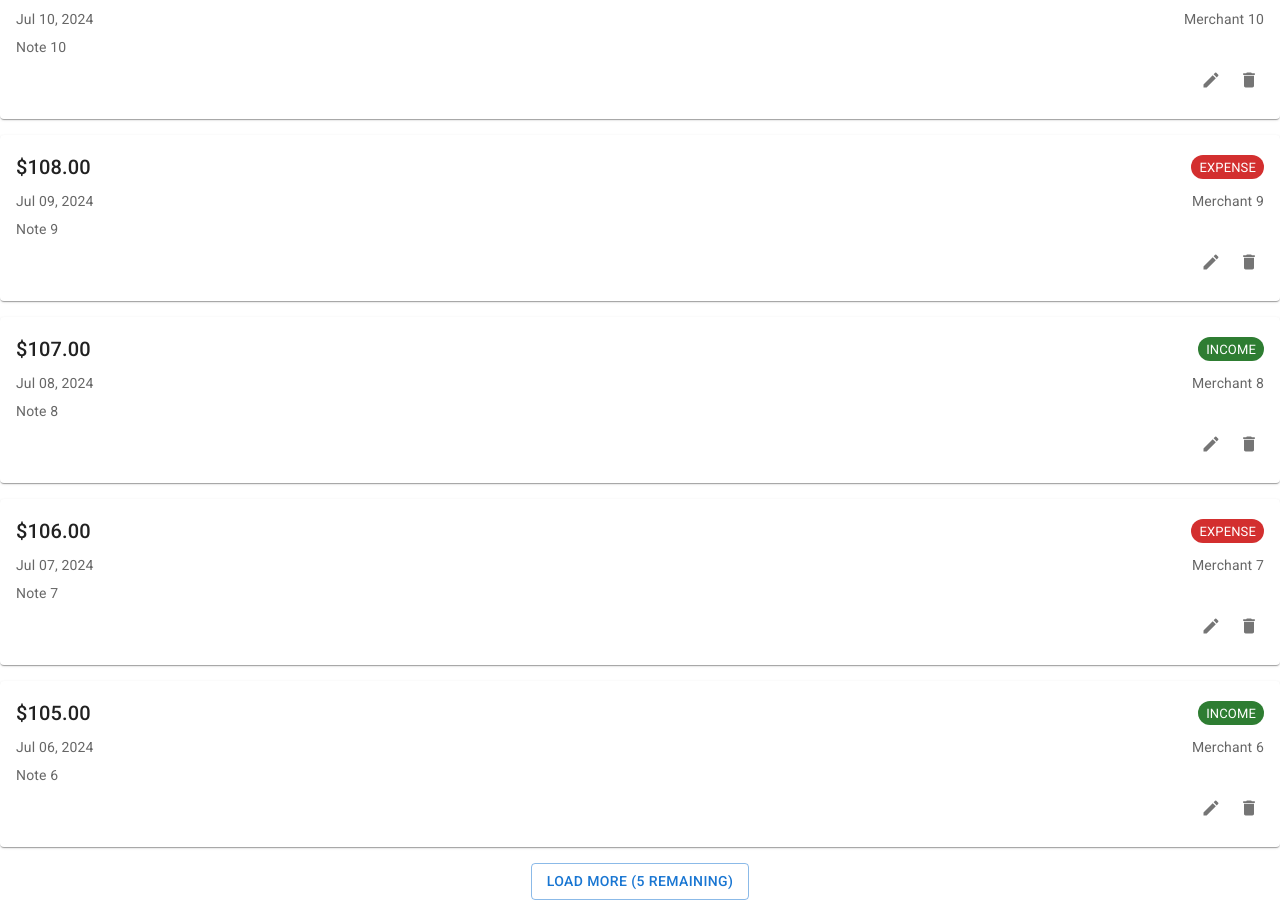
Scenario: MobileTransactionList › Pagination › should load more transactions when Load More button is clicked
(page scrolled)
Expected: the text "Merchant 5" is not shown
Click the button "Load More (5 remaining)".
click(640, 882)  # box [531, 863, 749, 899]
(page scrolled)
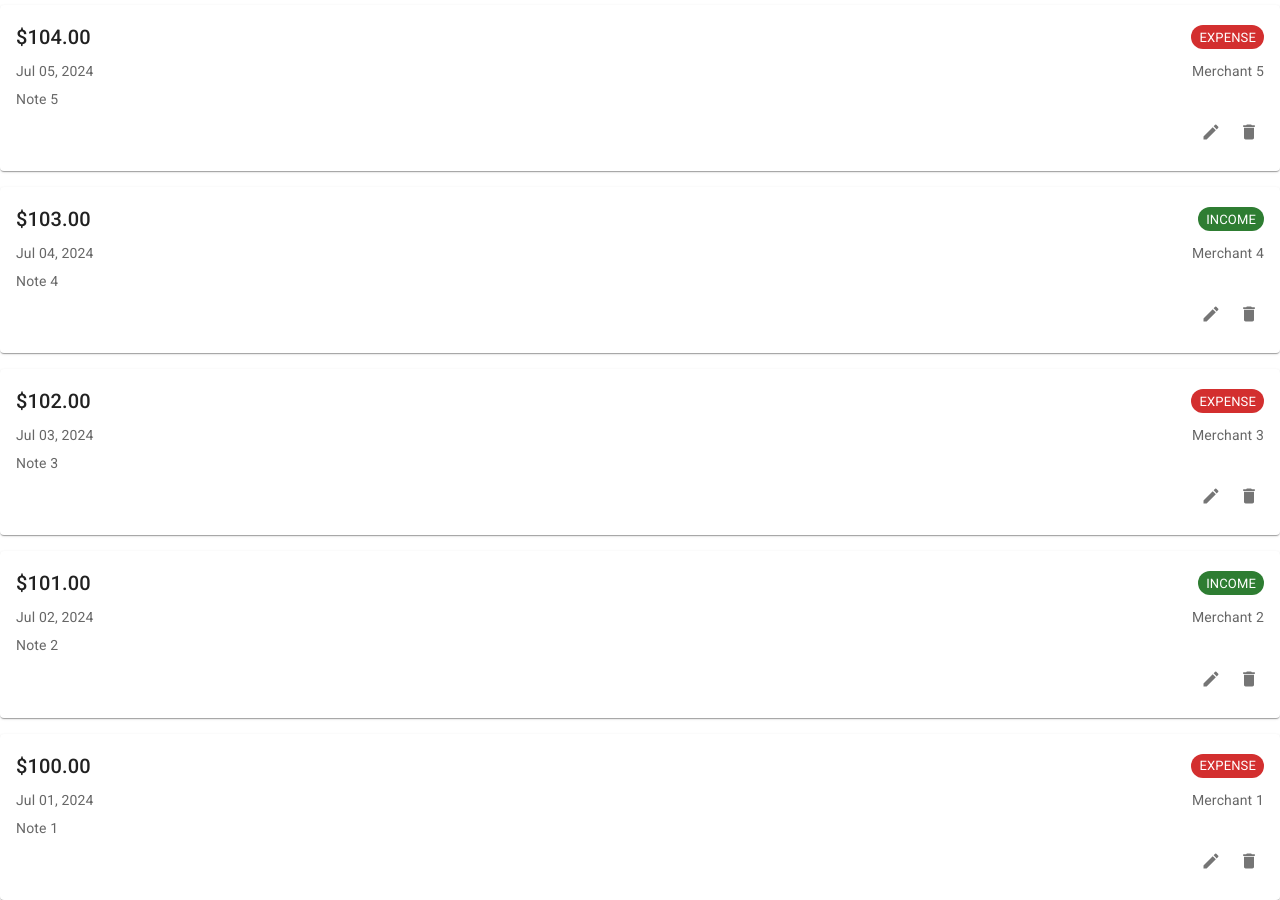
Expected: the text "Merchant 5" is shown, [1192, 61, 1264, 81]
Expected: the text "Merchant 1" is shown, [1192, 790, 1264, 810]
